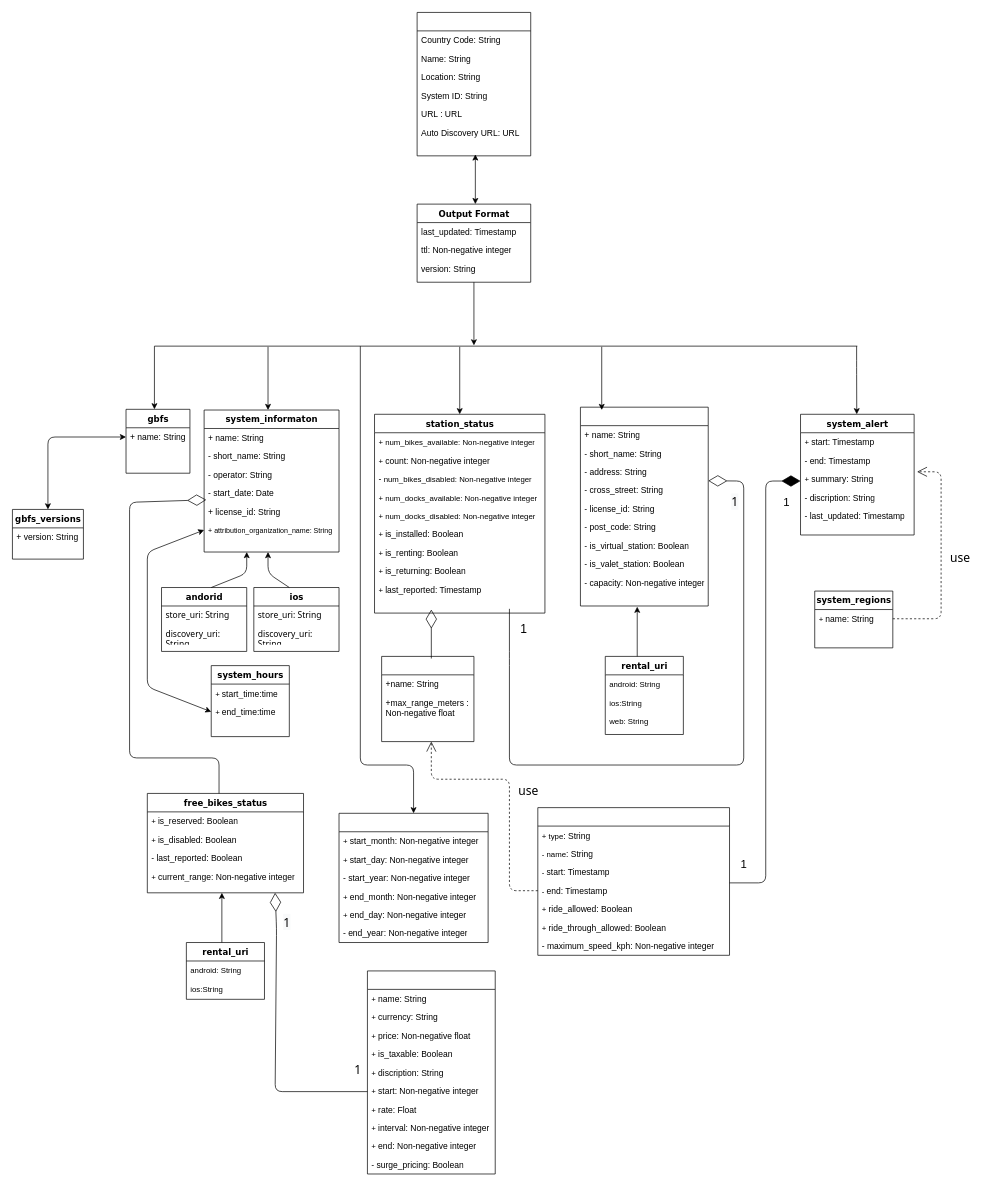
Some shapes in this 983 by 1189 pixel diagram are drawn without their labels. The box of each missing label's shape, as (x1, y1, x2, y2) in pixels:
geofensing_zones: (537, 807, 730, 955)
station_informaton: (580, 406, 708, 606)
system_calendar: (338, 813, 488, 943)
system_pricing_plan: (367, 970, 495, 1174)
Systems: (416, 12, 531, 156)
vehicle_type: (381, 656, 474, 742)
